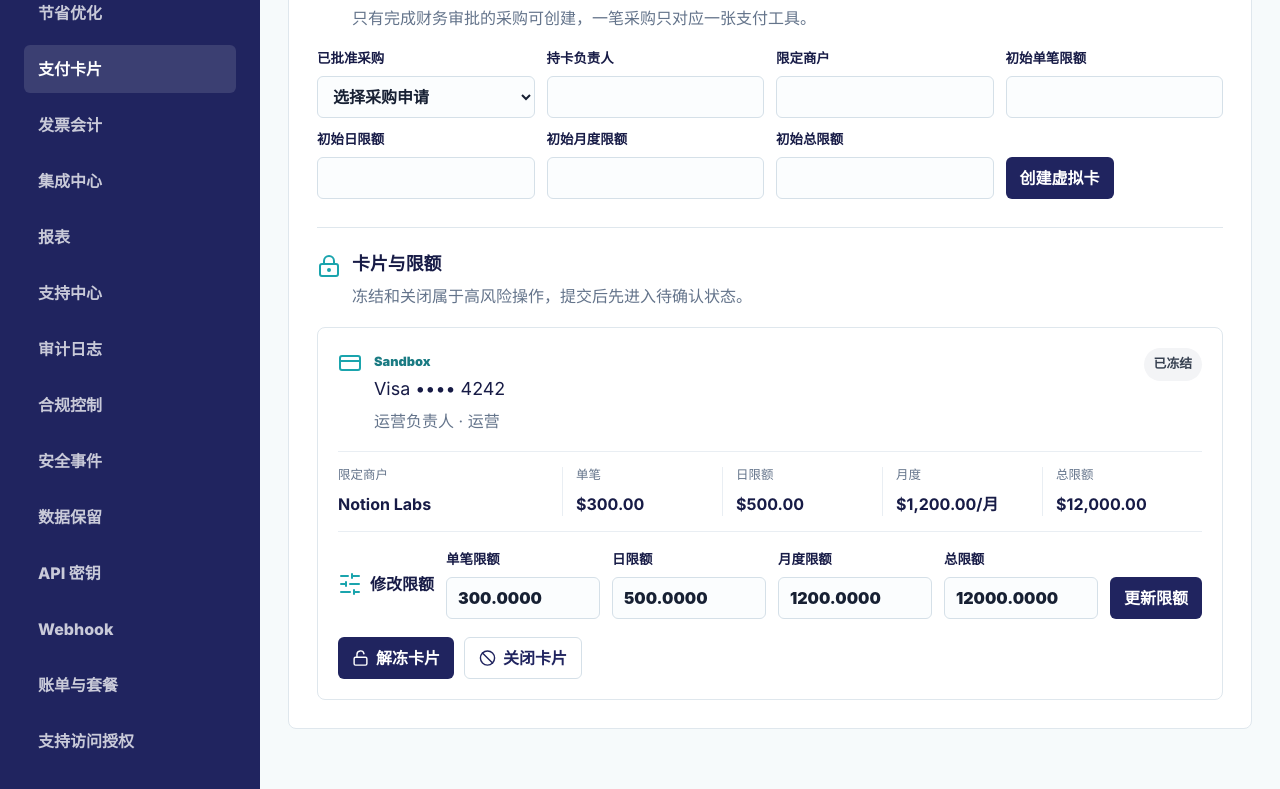
unfreezes a frozen virtual card
(page scrolled)
Step 1. Click the button "解冻卡片" → [396, 658], box [338, 637, 454, 679]
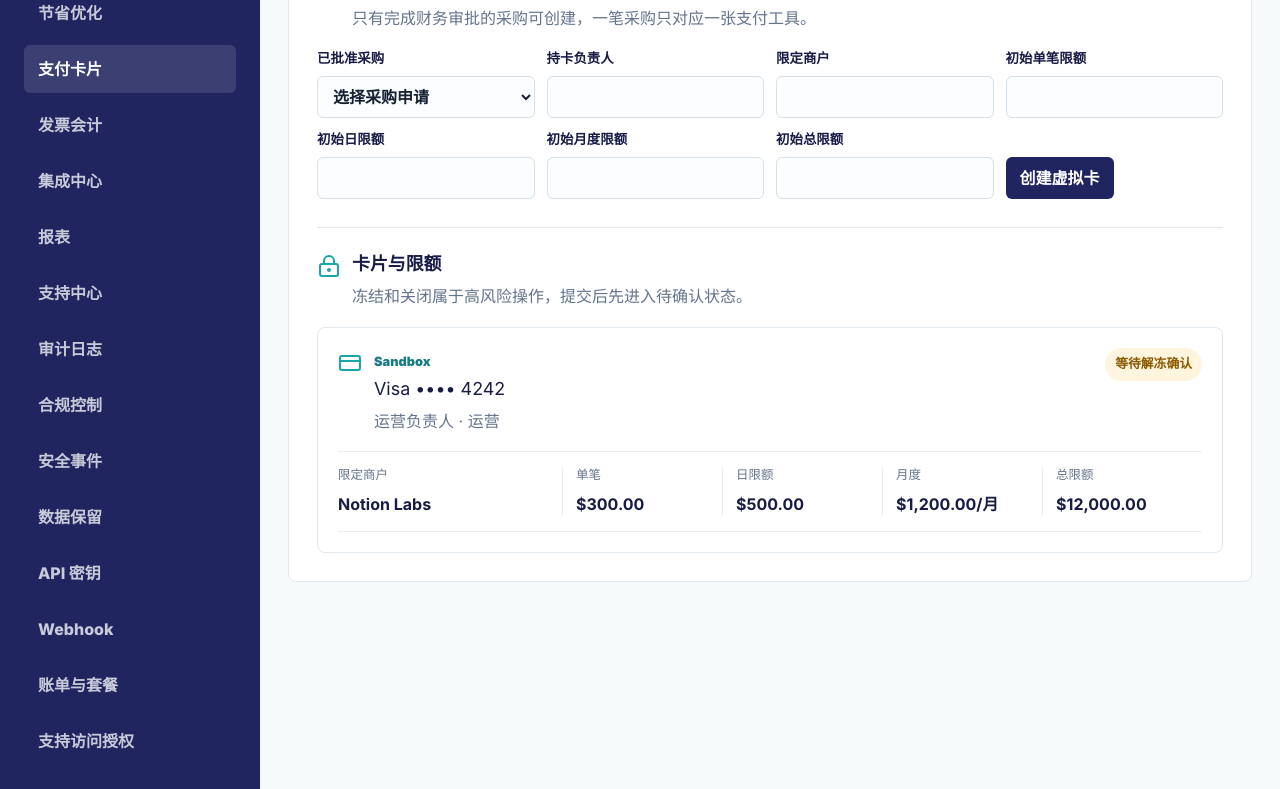
Now the text "等待解冻确认" is shown, box [1105, 348, 1202, 381]
